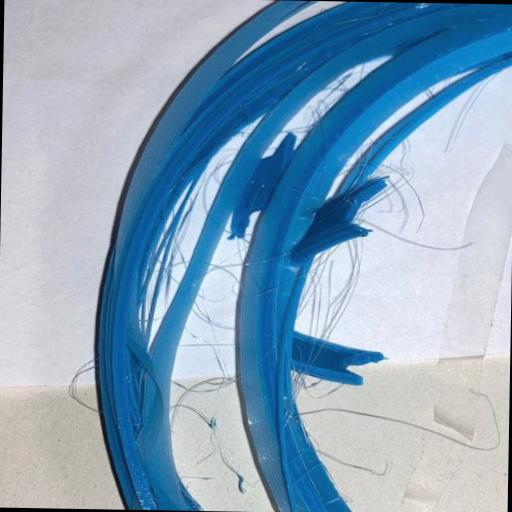stringing: (172, 266, 238, 436), (297, 230, 363, 346), (148, 200, 192, 296)
